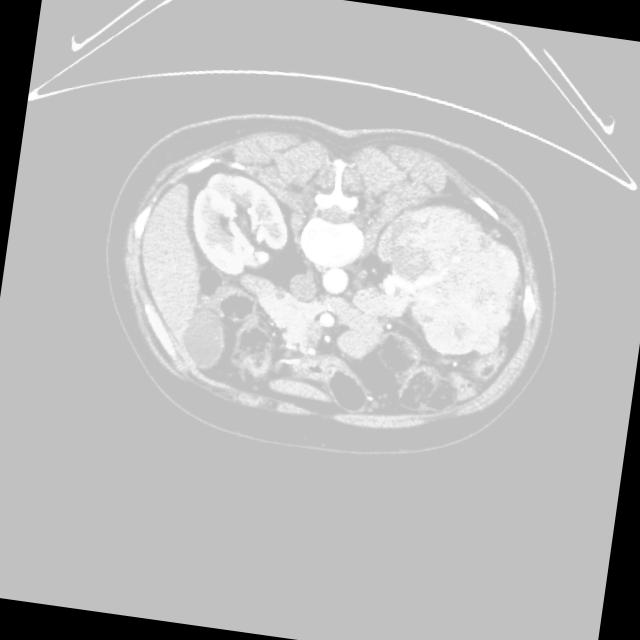TUMOR: (159, 190, 613, 371)
